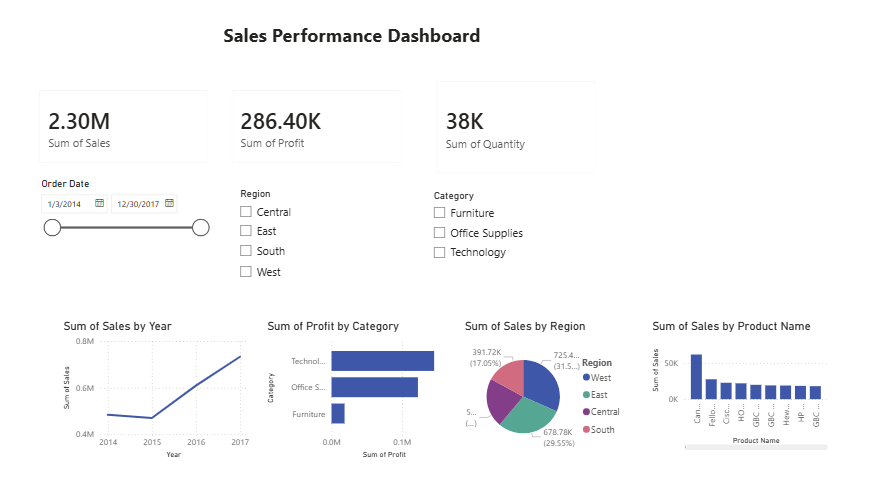

What the dashboard file says about the page in this screenshot:
{"tool":"powerbi","page":{"name":"Page 1","canvas":[1280,720],"ordinal":0},"visuals":[{"type":"cardVisual","fields":{"Data":["Sum(Sales_csv.Sales)"]},"box":[40,120,280,140],"z":0},{"type":"cardVisual","fields":{"Data":["Sum(Sales_csv.Profit)"]},"box":[320,120,281.8,140],"z":1000},{"type":"textbox","box":[320,32.7,463.6,87.3],"z":3000},{"type":"lineChart","fields":{"Category":["Sales_csv.Order Date.Variation.Date Hierarchy.Year","Sales_csv.Order Date.Variation.Date Hierarchy.Quarter","Sales_csv.Order Date.Variation.Date Hierarchy.Month","Sales_csv.Order Date.Variation.Date Hierarchy.Day"],"Y":["Sum(Sales_csv.Sales)"]},"box":[86.4,469.3,279.9,208.6],"z":4000},{"type":"clusteredBarChart","fields":{"Category":["Sales_csv.Category"],"Y":["Sum(Sales_csv.Profit)"]},"box":[384.2,469.3,271.7,208.6],"z":5000},{"type":"pieChart","fields":{"Category":["Sales_csv.Region"],"Y":["Sum(Sales_csv.Sales)"]},"box":[671,469.3,245.6,208.6],"z":6000},{"type":"clusteredColumnChart","fields":{"Category":["Sales_csv.Product Name"],"Y":["Sum(Sales_csv.Sales)"]},"box":[943.6,469.1,265.5,196.4],"z":7000},{"type":"slicer","fields":{"Values":["Sales_csv.Order Date"]},"box":[47.3,260,265.5,167.3],"z":8000},{"type":"slicer","fields":{"Values":["Sales_csv.Region"]},"box":[336.4,274.5,265.5,167.3],"z":9000},{"type":"slicer","fields":{"Values":["Sales_csv.Category"]},"box":[618.2,276.4,265.5,167.3],"z":10000},{"type":"cardVisual","fields":{"Data":["Sum(Sales_csv.Quantity)"]},"box":[618.2,107.3,265.5,167.3],"z":11000}]}

Visuals, with their boxes in screenshot pixels (x1, y1, x2, y2), scaled from the page's 1280x720 canvas onto the 879x487 screenshot:
cardVisual - Sum(Sales_csv.Sales): 27/81/220/176
cardVisual - Sum(Sales_csv.Profit): 220/81/413/176
textbox: 220/22/538/81
lineChart - Sales_csv.Order Date.Variation.Date Hierarchy.Year x Sales_csv.Order Date.Variation.Date Hierarchy.Quarter: 59/317/252/459
clusteredBarChart - Sales_csv.Category x Sum(Sales_csv.Profit): 264/317/450/459
pieChart - Sales_csv.Region x Sum(Sales_csv.Sales): 461/317/629/459
clusteredColumnChart - Sales_csv.Product Name x Sum(Sales_csv.Sales): 648/317/830/450
slicer - Sales_csv.Order Date: 32/176/215/289
slicer - Sales_csv.Region: 231/186/413/299
slicer - Sales_csv.Category: 425/187/607/300
cardVisual - Sum(Sales_csv.Quantity): 425/73/607/186
